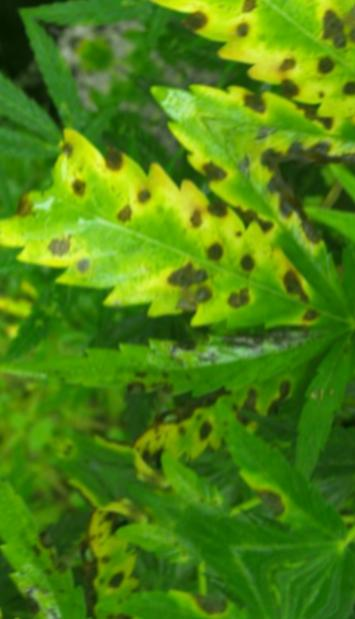Tomato leaf bacterial spot: (0, 100, 354, 421), (62, 63, 355, 304), (176, 387, 355, 559), (289, 187, 355, 366)
